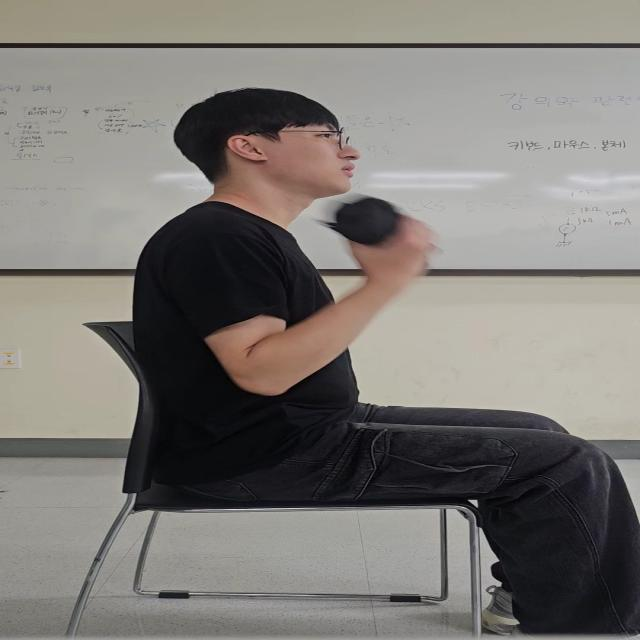curl: (188, 212, 473, 406)
